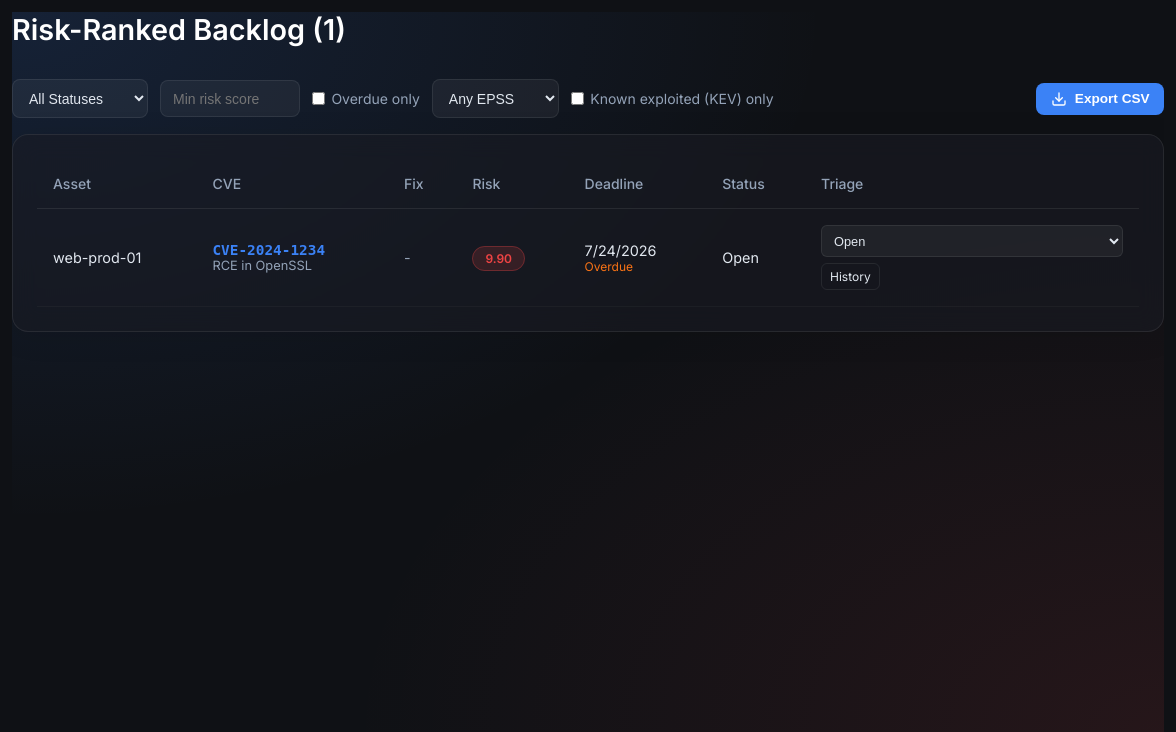
Test case: FindingsBacklog › surfaces a rejected update instead of silently dropping it
This screenshot has width=1176, height=732.
Step 1. Select "Remediated" in the dropdown showing "Open" in the row of "web-prod-01" → coordinates (972, 241), box [821,225,1123,257]
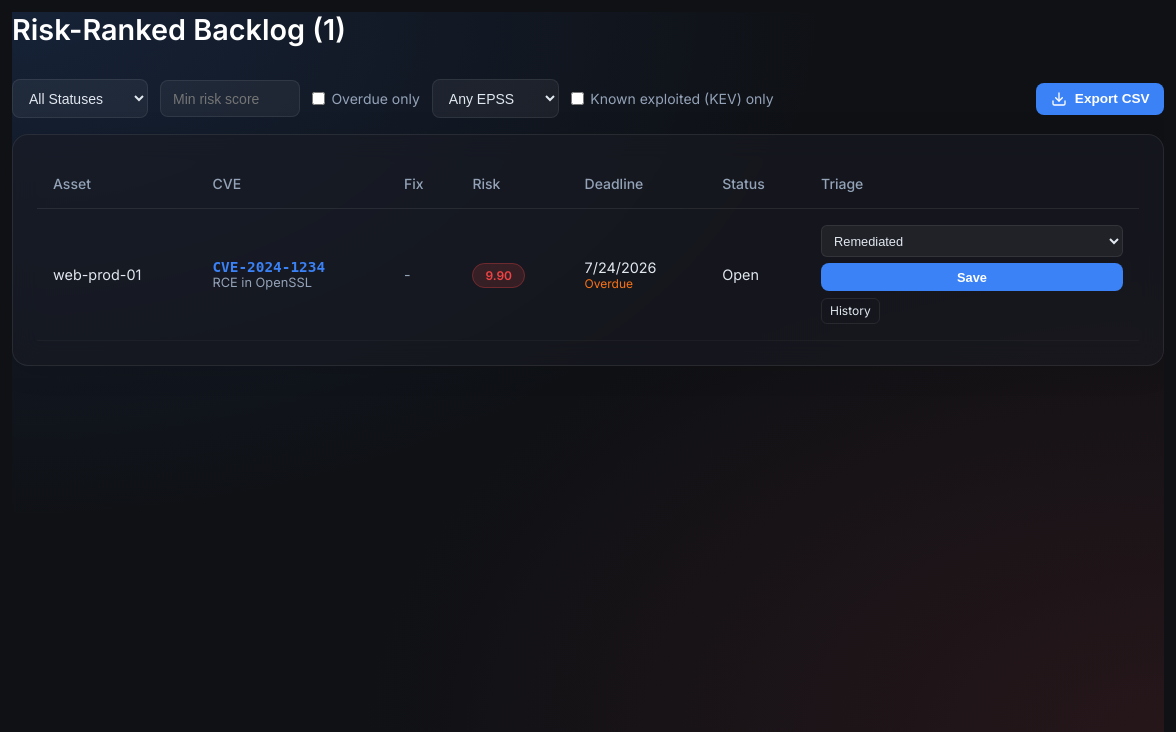
Step 2. Click the button "Save" → coordinates (972, 277), box [821,263,1123,291]
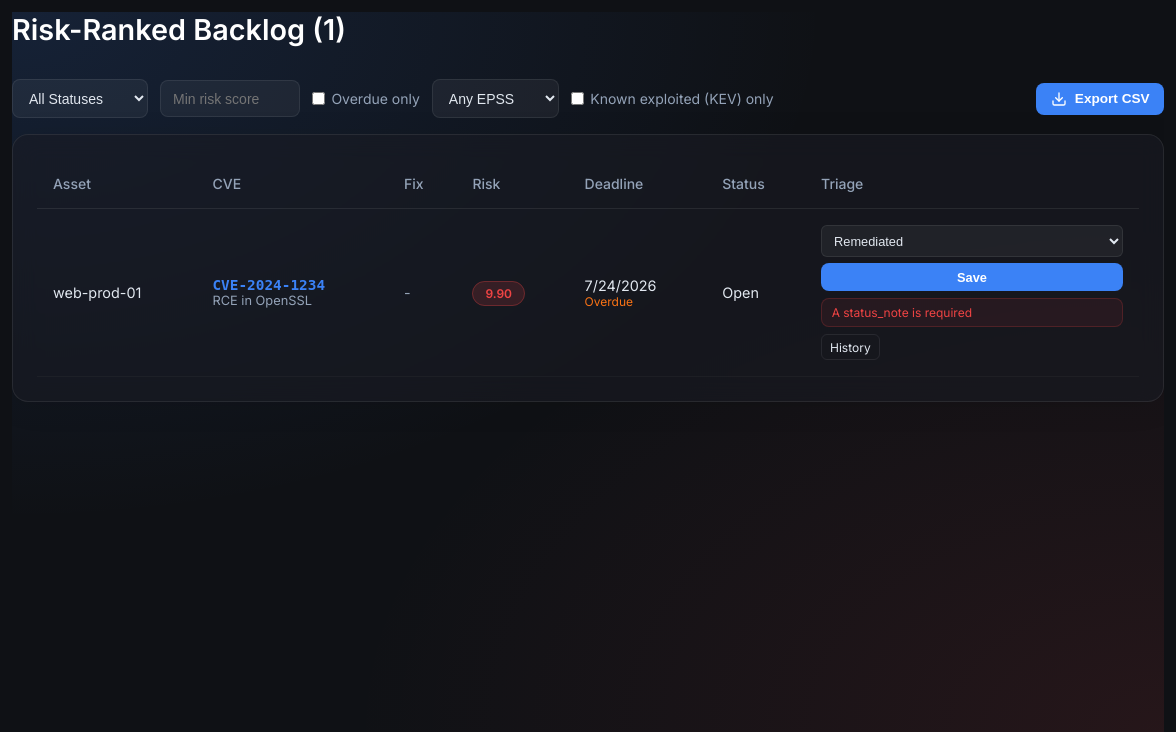
Now the text "A status_note is required" is shown, box [821,298,1123,327]
